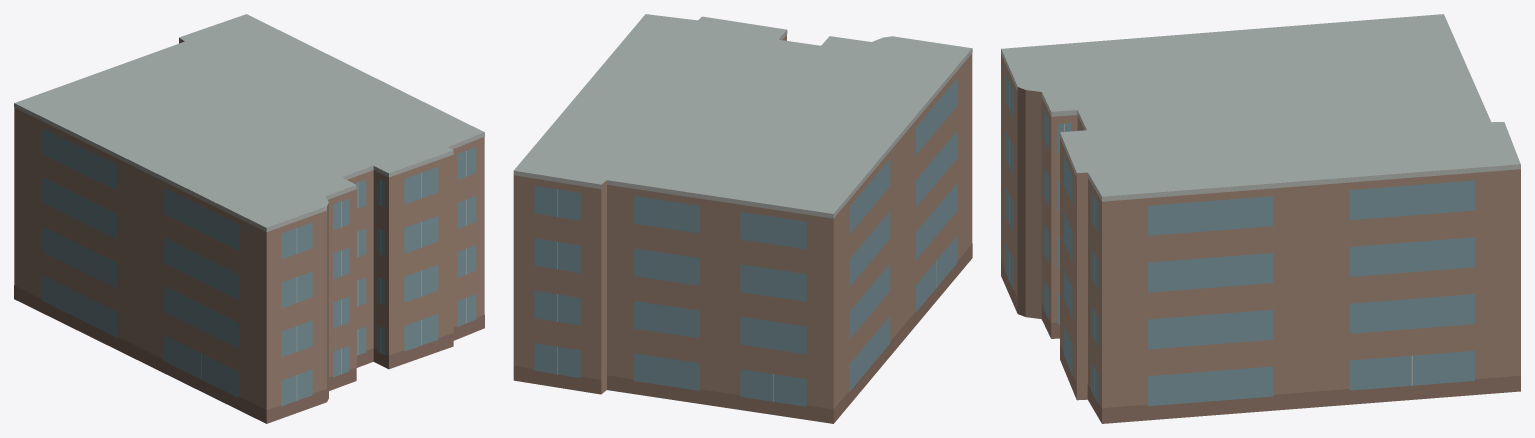
Rendered from survey-upis-32977630.glb.
The picture shows the model from 3 angles, left to right: view 1: azimuth 30°, elevation 25°; view 2: azimuth 150°, elevation 25°; view 3: azimuth 270°, elevation 25°; orthographic projection. The views are drawn at different scales.
Visible parts, largest first — view 1: survey-upis-32977630.tmp; view 2: survey-upis-32977630.tmp; view 3: survey-upis-32977630.tmp.
Boxes of the visible parts, <box> form: survey-upis-32977630.tmp: <box>14,14,484,423</box>; survey-upis-32977630.tmp: <box>513,14,972,423</box>; survey-upis-32977630.tmp: <box>1001,14,1520,423</box>.
Size of the model in its own units: 19.34 by 11.2 by 23.24.
